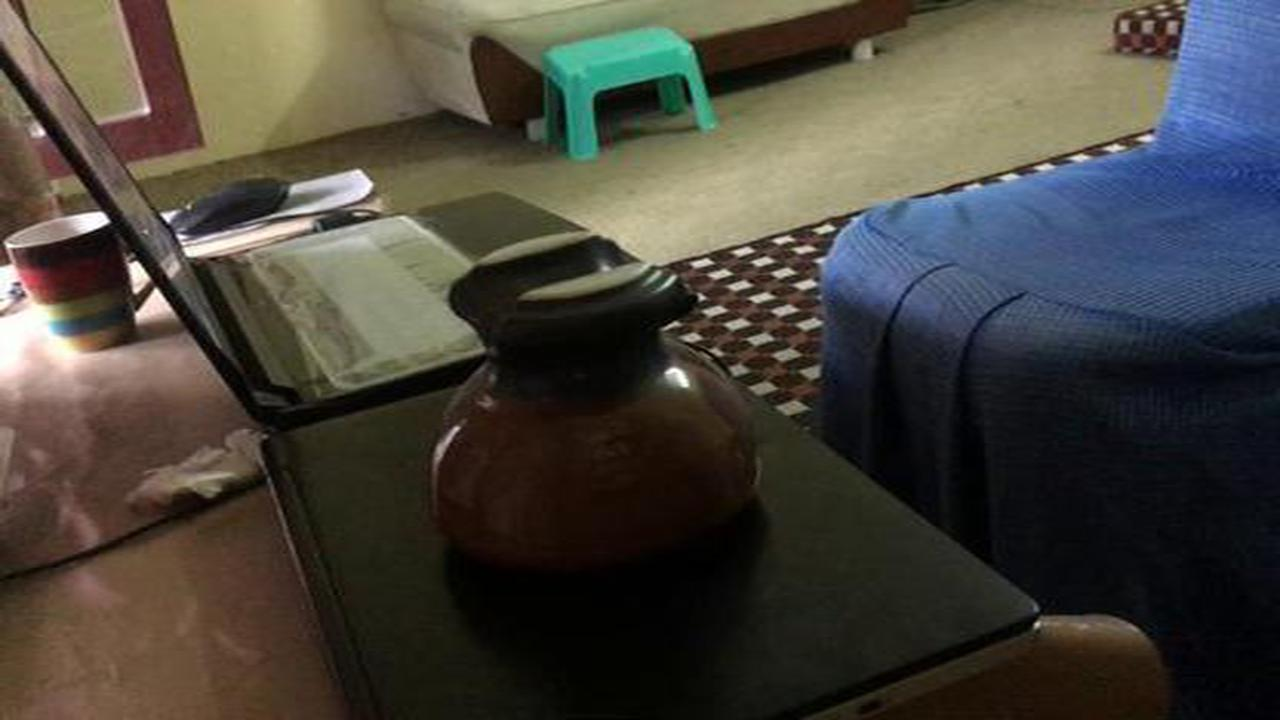insulator_pin: (400, 219, 791, 603)
